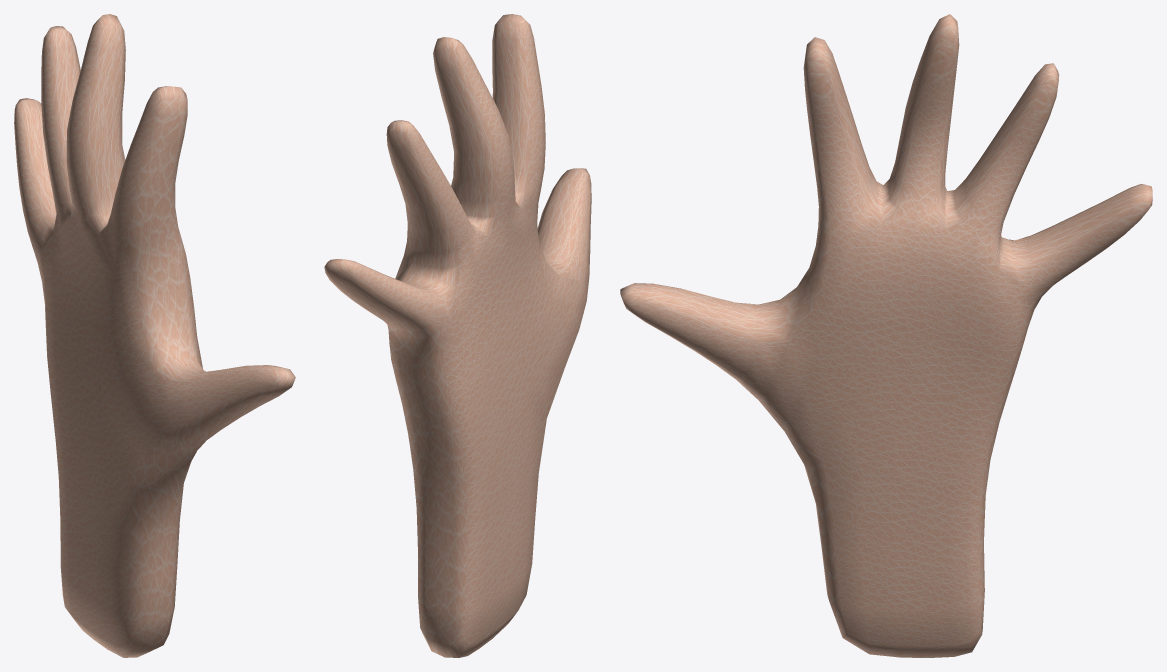
Rendered from leftHand.fbx.
The picture shows the model from 3 angles, left to right: view 1: azimuth 30°, elevation 25°; view 2: azimuth 150°, elevation 25°; view 3: azimuth 270°, elevation 25°; orthographic projection. The views are drawn at different scales.
Parts seen in each view (by area): view 1: Cube; view 2: Cube; view 3: Cube.
Boxes of the visible parts, x1,y1,x2,y2 form: Cube: (14,14,295,657); Cube: (324,14,591,657); Cube: (620,14,1152,657).
Size of the model in its own units: 56.44 by 392 by 295.
